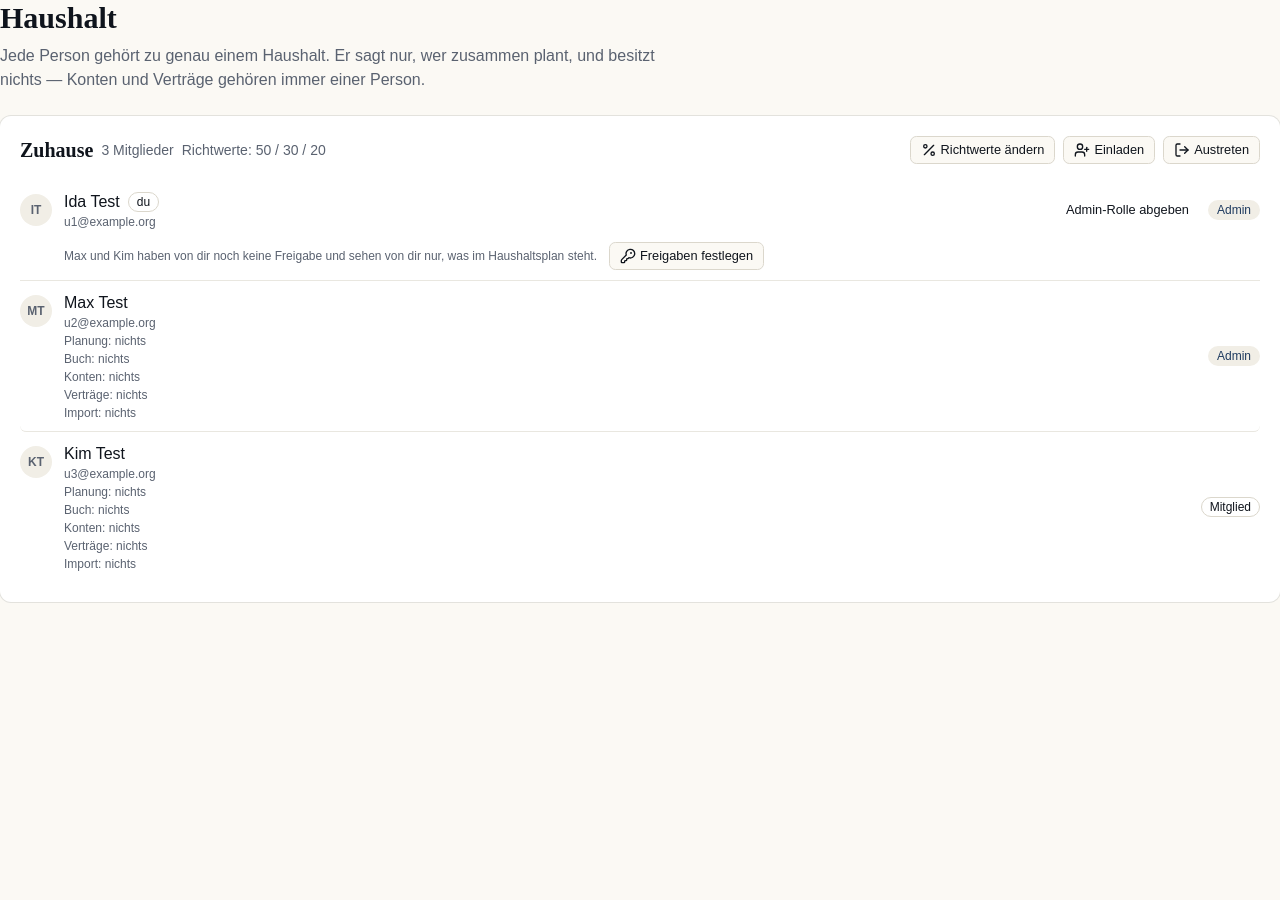
Scenario: stepping down as admin › a refusal stays in the dialog
Click the button "Admin-Rolle abgeben". click: (1127, 210)
box: [1055, 196, 1200, 224]
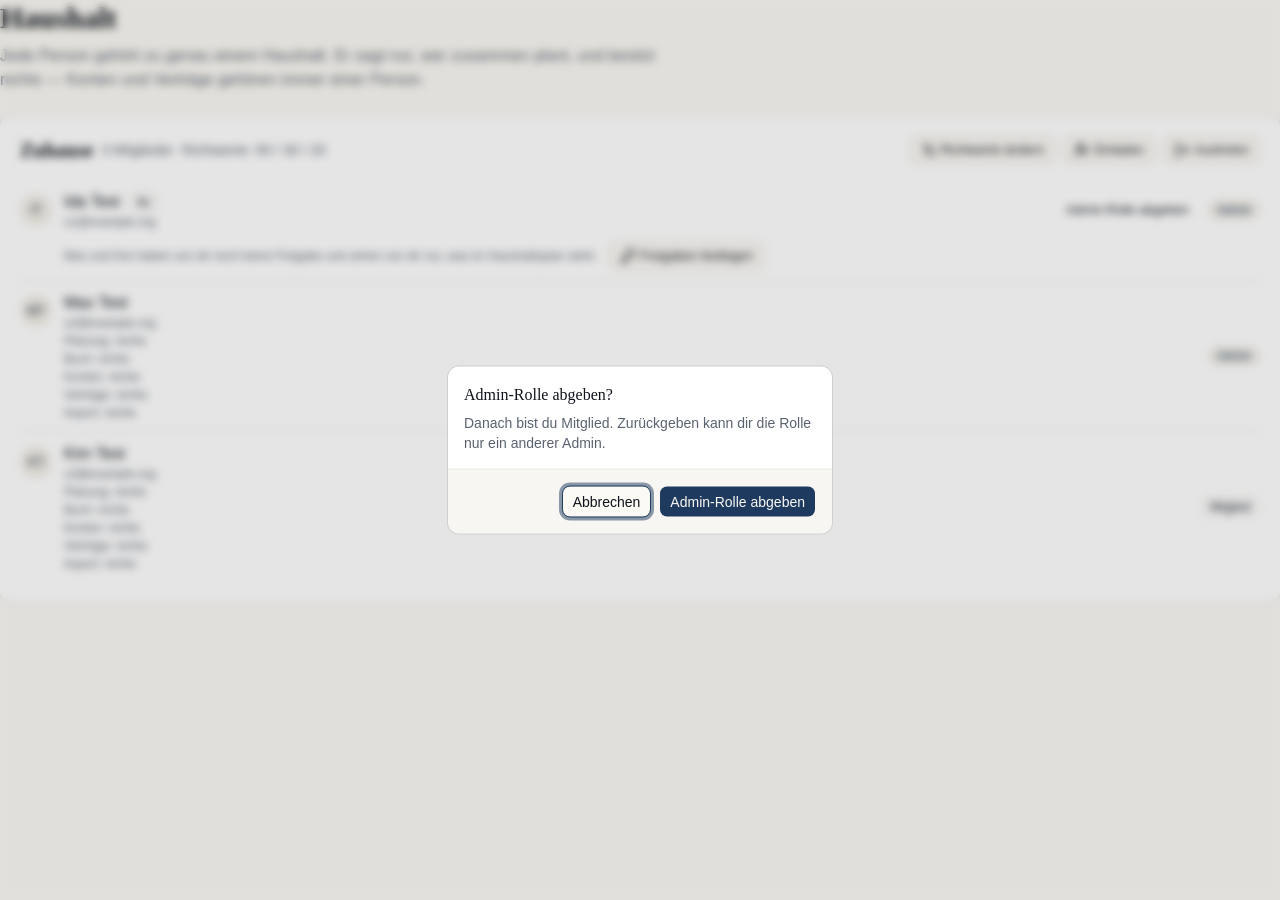
Click the button "Admin-Rolle abgeben". click: (738, 502)
box: [659, 486, 816, 518]
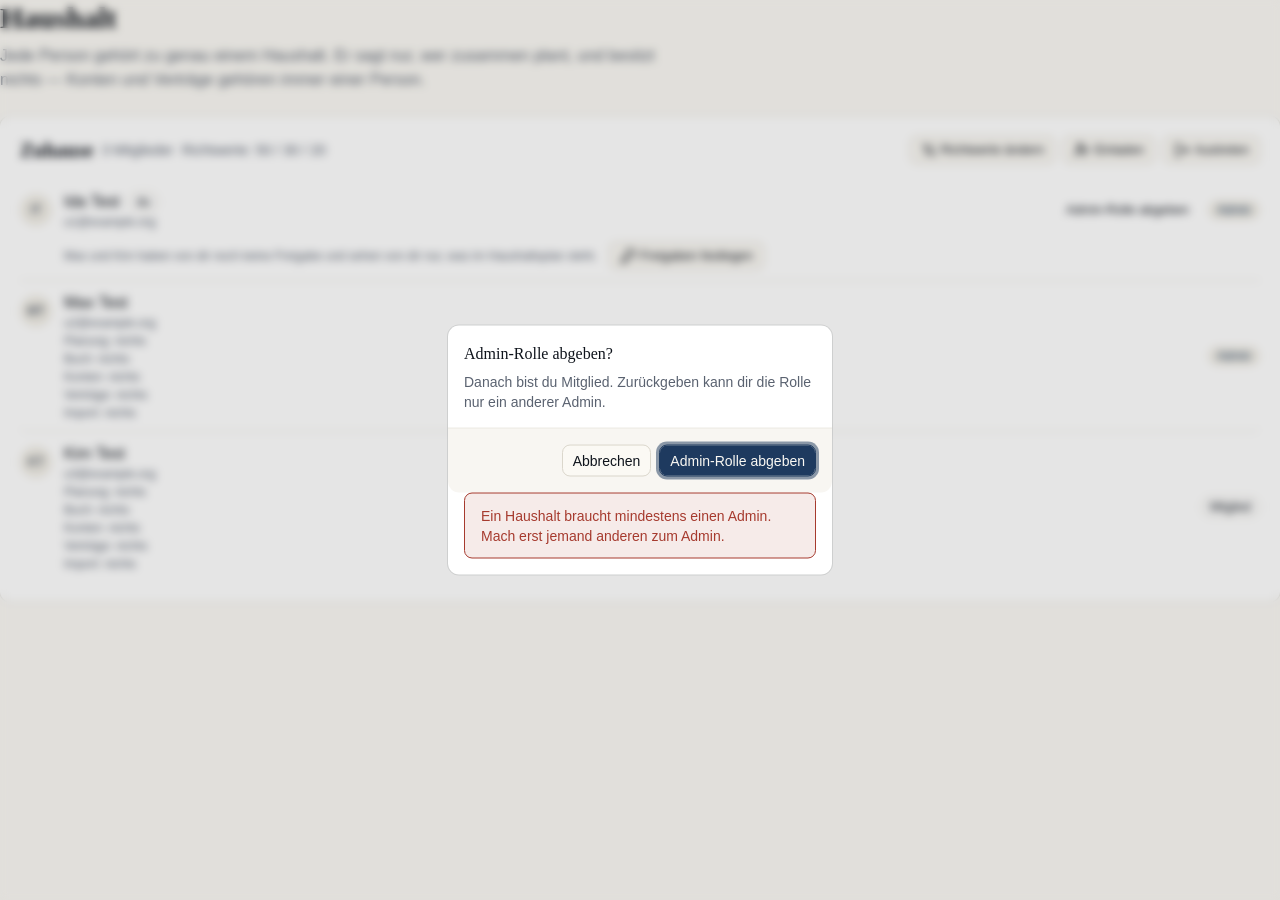
Now the text "Ein Haushalt braucht mindestens einen Admin. Mach erst jemand anderen zum Admin." is shown, box [464, 492, 816, 558]
